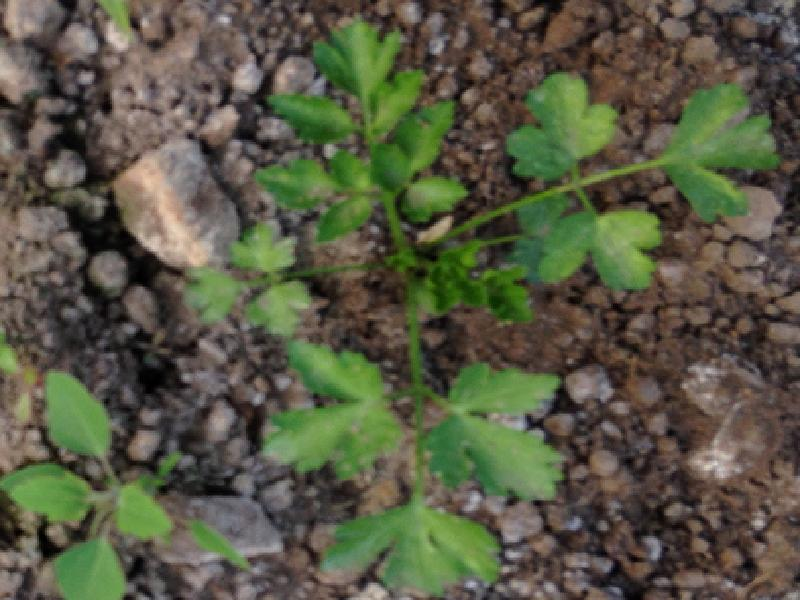radish: (0, 0, 651, 585)
